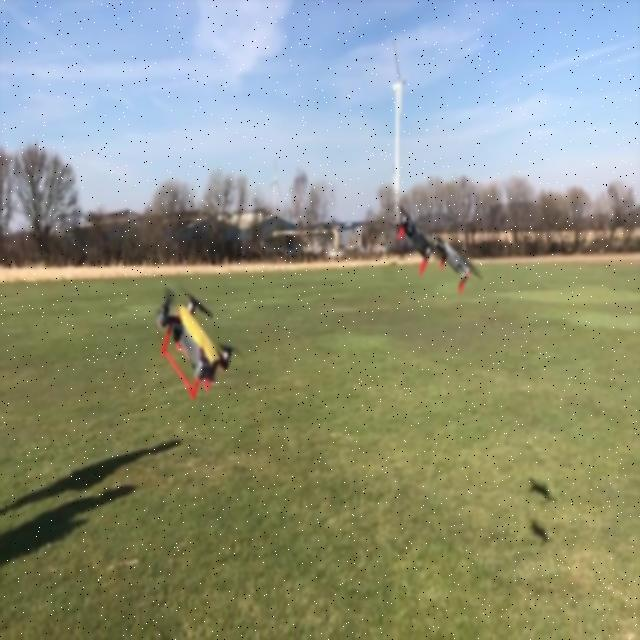UAV: (156, 284, 242, 401), (431, 234, 483, 293), (396, 204, 436, 278)
